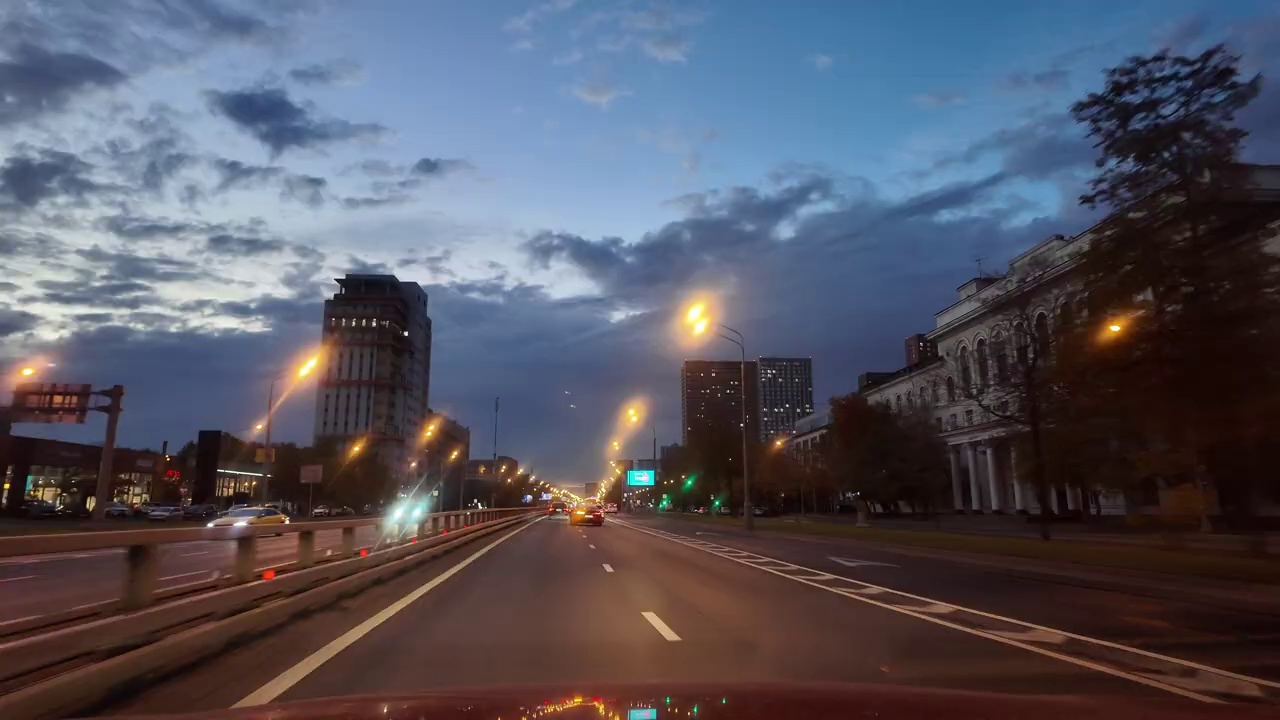acesa: (659, 302, 718, 352), (672, 294, 720, 346), (286, 347, 329, 389), (615, 397, 649, 430)
